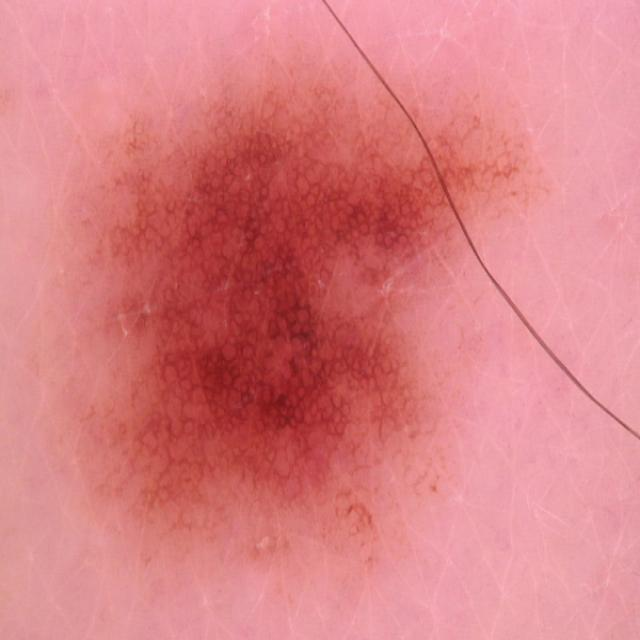NV: (68, 71, 551, 563)
